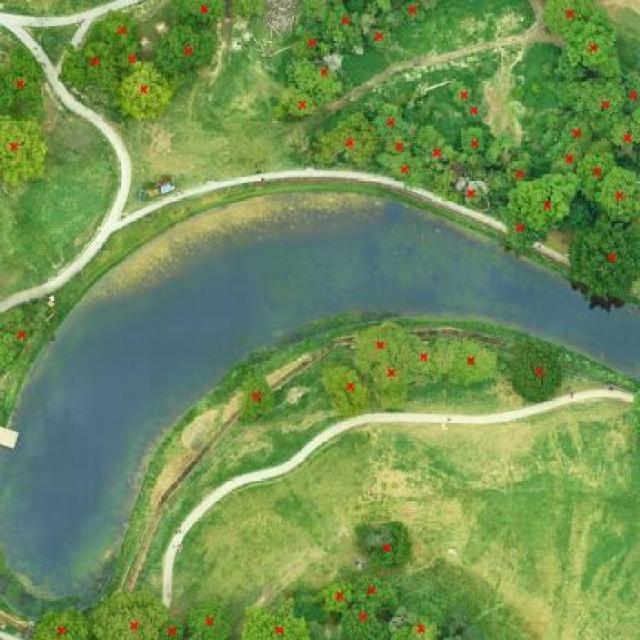tree: (563, 216, 640, 302), (83, 584, 164, 640), (506, 339, 569, 407), (507, 171, 581, 228), (365, 339, 418, 412), (315, 113, 378, 173), (113, 65, 179, 122), (156, 24, 222, 78), (0, 119, 51, 187), (1, 41, 41, 122), (572, 78, 635, 127), (239, 597, 310, 640), (63, 39, 122, 86), (598, 165, 640, 224), (566, 23, 617, 71), (361, 522, 412, 568), (91, 13, 145, 56), (331, 603, 391, 640), (185, 595, 233, 640), (32, 600, 86, 640), (550, 113, 599, 153), (342, 575, 402, 607), (543, 1, 603, 33), (292, 59, 343, 96), (276, 86, 324, 123), (236, 373, 275, 418), (292, 14, 329, 61), (497, 211, 543, 247), (315, 577, 359, 612), (328, 368, 369, 404), (604, 120, 640, 160), (421, 125, 452, 171), (456, 179, 496, 213), (544, 143, 590, 172), (116, 38, 149, 77), (452, 346, 490, 379), (173, 0, 230, 22), (406, 340, 439, 375), (0, 321, 37, 352), (374, 155, 417, 179), (396, 614, 435, 640), (568, 194, 595, 231), (376, 103, 405, 137), (508, 153, 532, 190), (375, 135, 417, 156), (225, 1, 269, 21), (365, 330, 393, 358), (456, 101, 490, 124), (624, 69, 640, 116), (395, 0, 431, 20), (456, 132, 489, 153), (2, 301, 27, 328), (452, 81, 474, 105), (368, 25, 390, 48), (163, 617, 183, 640), (369, 0, 393, 18), (345, 0, 368, 17), (336, 10, 352, 33)
